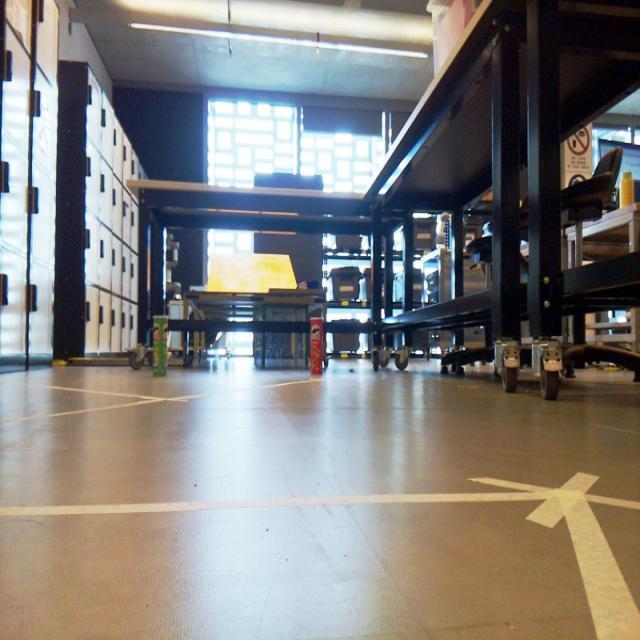greenpringles: (148, 313, 178, 380)
redpringles: (306, 310, 331, 384)
